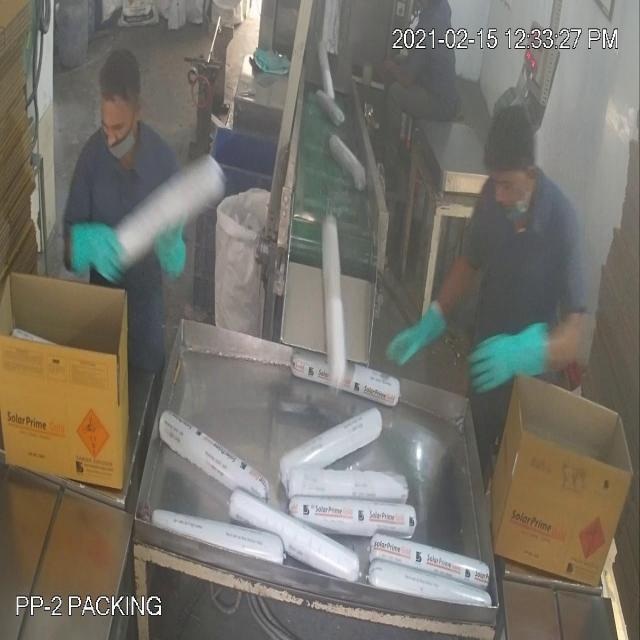Gloves: (45, 46, 515, 360)
